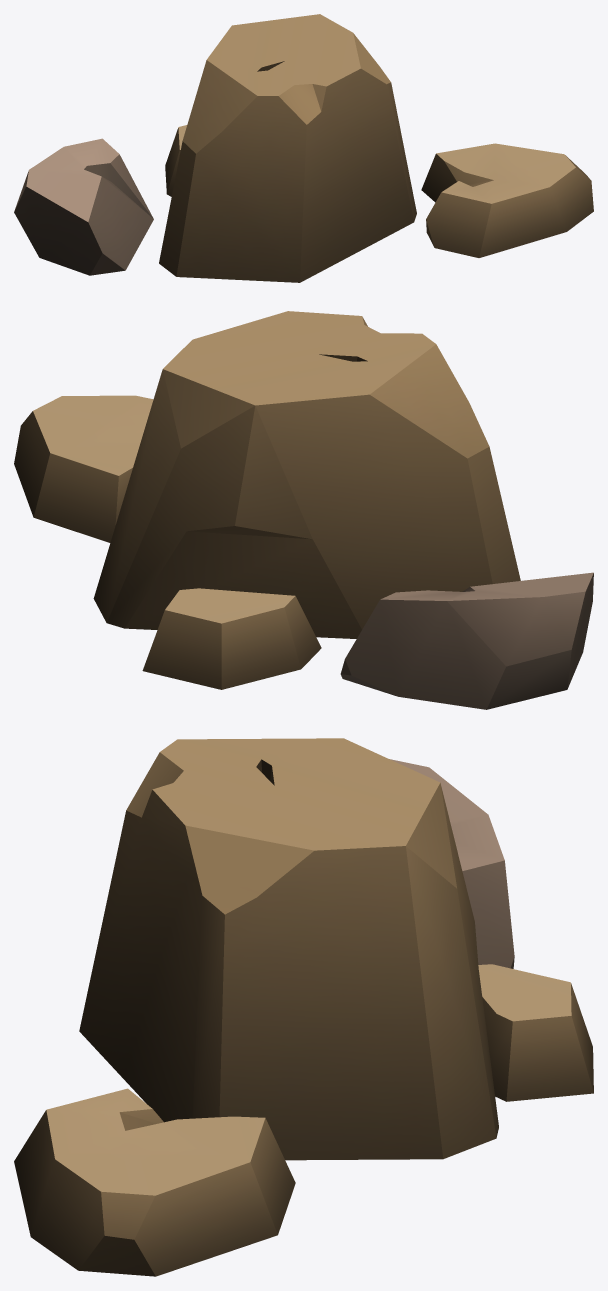
File: Rock_Cluster_3D.fbx
3 renders of one model, top to bottom at view 1: azimuth 30°, elevation 25°; view 2: azimuth 150°, elevation 25°; view 3: azimuth 270°, elevation 25°, orthographic. The views are drawn at different scales.
Parts seen in each view (by area): view 1: Rock_Cluster_3D; view 2: Rock_Cluster_3D; view 3: Rock_Cluster_3D.
Boxes of the visible parts, x1=… form: Rock_Cluster_3D: x1=14, y1=14, x2=593, y2=282; Rock_Cluster_3D: x1=14, y1=311, x2=593, y2=709; Rock_Cluster_3D: x1=14, y1=738, x2=593, y2=1276.
Bounding box in the file's own units: 365 × 121 × 226.
